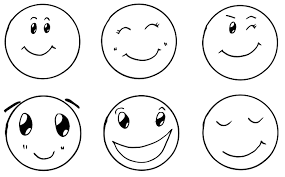feliz: (199, 89, 280, 174), (4, 2, 85, 86), (4, 88, 85, 172), (99, 92, 179, 177), (98, 1, 179, 84), (199, 1, 280, 84), (16, 106, 71, 162), (112, 106, 167, 162), (213, 108, 268, 164), (22, 14, 65, 60), (217, 19, 260, 65), (119, 19, 161, 65)
